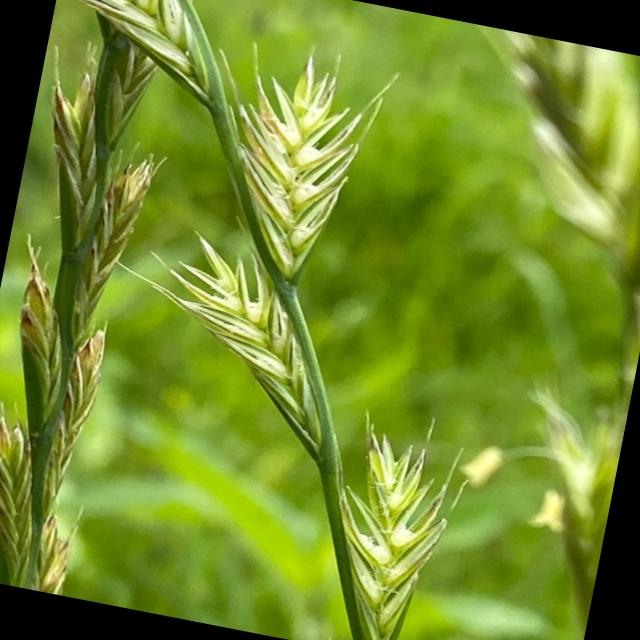Lolium: (0, 0, 551, 640), (358, 24, 640, 640), (0, 0, 201, 599)
